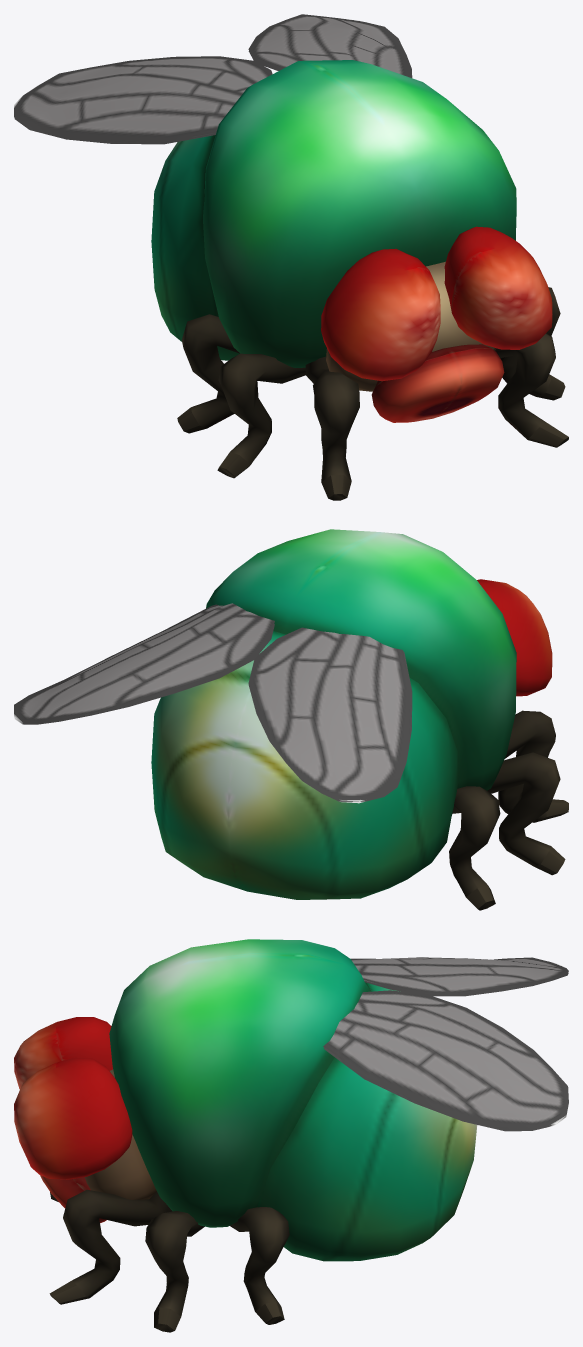
The model's file is fly.FBX.
The picture shows the model from 3 angles, top to bottom: view 1: azimuth 30°, elevation 25°; view 2: azimuth 150°, elevation 25°; view 3: azimuth 270°, elevation 25°; orthographic projection. The views are drawn at different scales.
Visible parts, largest first — view 1: fly; view 2: fly; view 3: fly.
Part boxes in pixels (<box>): fly: <box>14,14,568,500</box>; fly: <box>14,529,568,910</box>; fly: <box>14,939,568,1332</box>.
Bounding box in the file's own units: 27.8 × 22.84 × 37.93.
